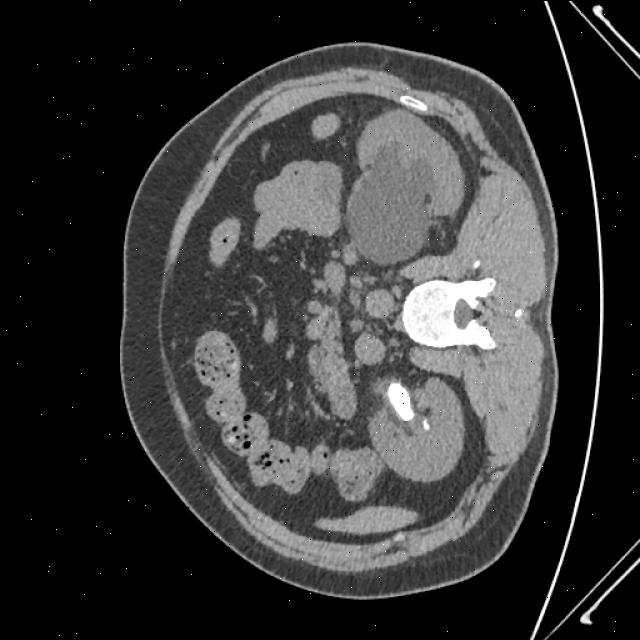kidneystone: (388, 382, 414, 420)
